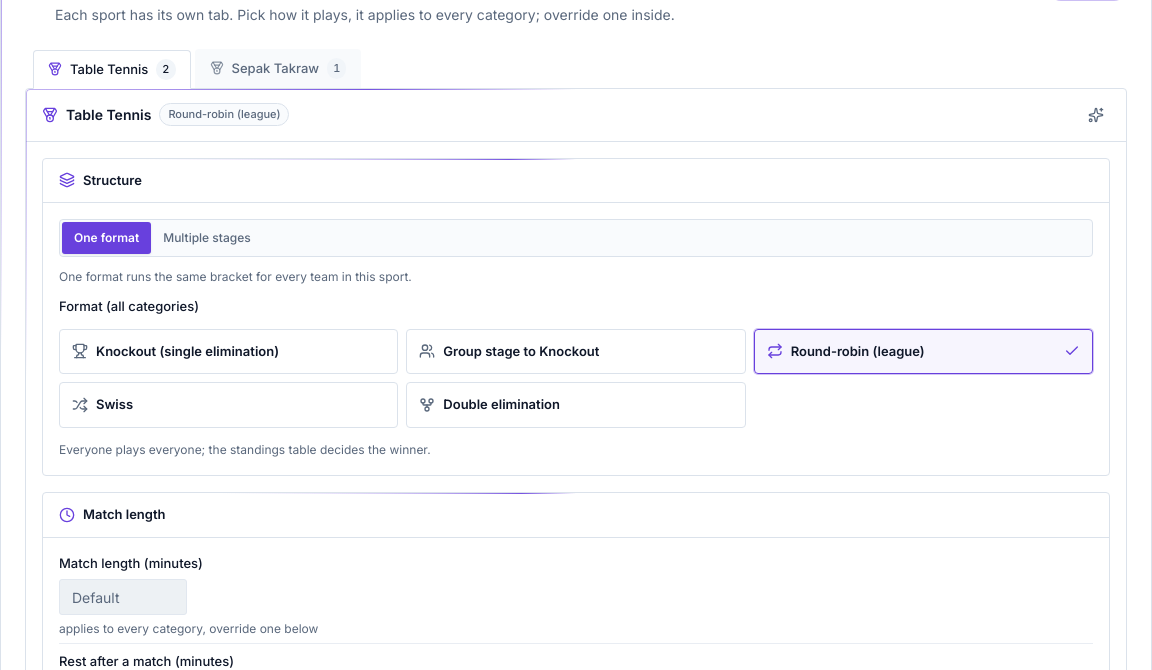
Test: CompetitionFormatBoard › inherits the sport's scoring default on each game's card
What coordinates should you click on to do the following:
click the tab with test id "format-sport-tab-sepak_takraw"
I would click on:
 (278, 68)
Its box is [194,49,361,88].
(page scrolled)
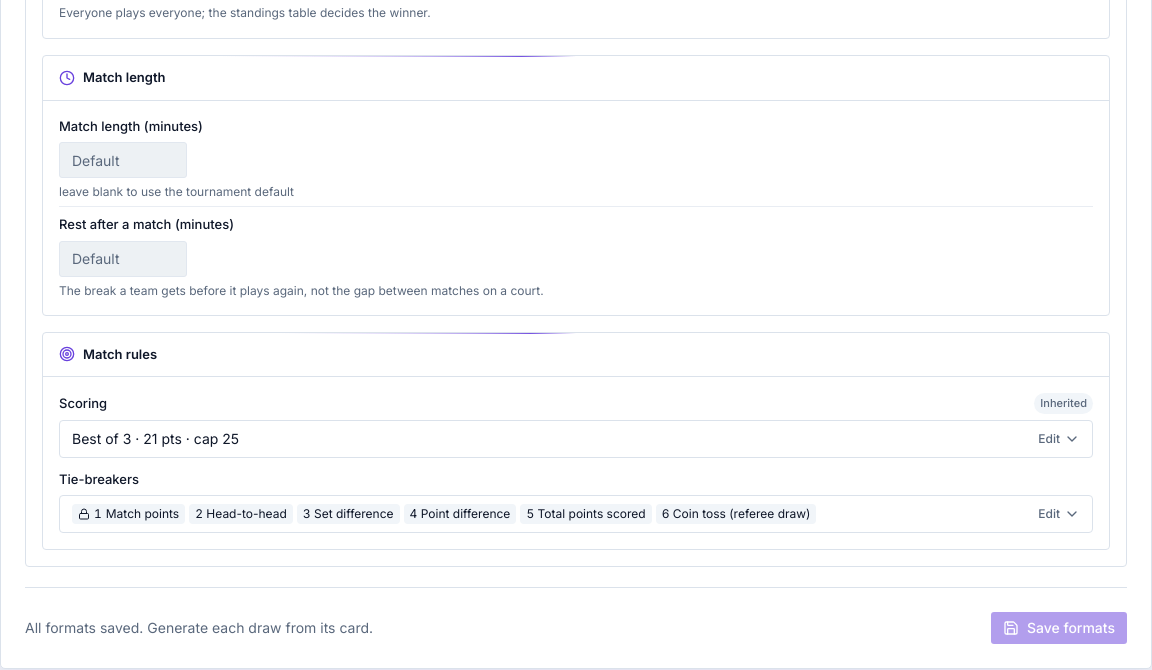
Expected: the text with test id "format-sport-sepak_takraw-scoring-summary" shows "Best of 3", [72,430,239,446]
Expected: the text with test id "format-sport-sepak_takraw-scoring-summary" shows "21 pts", [72,430,239,446]
Expected: the text with test id "format-sport-sepak_takraw-scoring-summary" shows "cap 25", [72,430,239,446]
